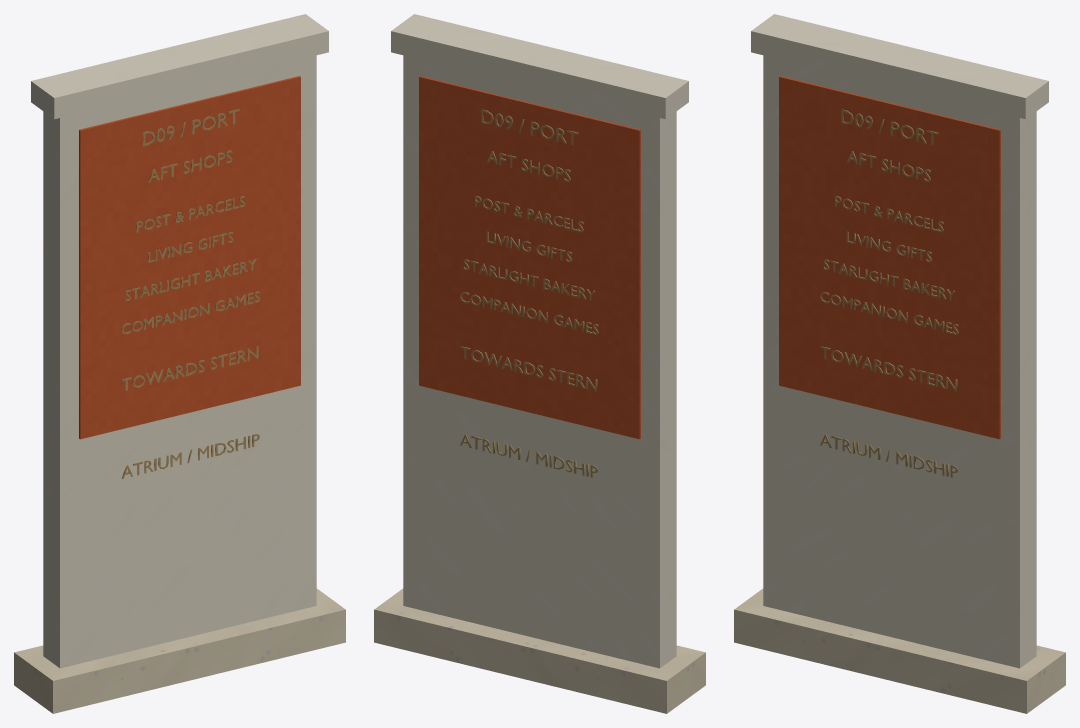
File: guide_port_aft_r003.glb
The picture shows the model from 3 angles, left to right: view 1: azimuth 30°, elevation 25°; view 2: azimuth 150°, elevation 25°; view 3: azimuth 330°, elevation 25°; orthographic projection.
Parts seen in each view (by area): view 1: profiled_column, recessed_orange_directory, weighted_plinth, crown, atrium, orientation, venue_3, venue_2, venue_0, heading, district, venue_1; view 2: profiled_column, recessed_orange_directory_back, weighted_plinth, crown, orientation_back, atrium_back, venue_3_back, venue_2_back, heading_back, venue_0_back, venue_1_back, district_back; view 3: profiled_column, recessed_orange_directory, weighted_plinth, crown, orientation, atrium, venue_3, venue_2, heading, venue_0, venue_1, district.
Part boxes in pixels (x1,y1,x2,y2): profiled_column: (43, 55, 316, 668); recessed_orange_directory: (79, 76, 300, 439); weighted_plinth: (14, 588, 345, 713); crown: (31, 14, 328, 119); atrium: (121, 434, 259, 478); orientation: (121, 346, 258, 390); venue_3: (121, 291, 260, 334); venue_2: (125, 258, 256, 300); venue_0: (136, 196, 245, 232); heading: (143, 109, 239, 146); district: (148, 150, 232, 182); venue_1: (148, 232, 233, 262); profiled_column: (403, 55, 676, 668); recessed_orange_directory_back: (419, 76, 640, 439); weighted_plinth: (374, 588, 705, 713); crown: (391, 14, 688, 119); orientation_back: (460, 346, 597, 391); atrium_back: (460, 434, 598, 477); venue_3_back: (460, 292, 598, 334); venue_2_back: (463, 259, 594, 300); heading_back: (481, 109, 578, 145); venue_0_back: (475, 195, 583, 232); venue_1_back: (486, 231, 571, 262); district_back: (487, 151, 570, 181); profiled_column: (763, 55, 1036, 668); recessed_orange_directory: (779, 76, 1000, 439); weighted_plinth: (734, 588, 1065, 713); crown: (751, 14, 1048, 119); orientation: (820, 346, 957, 391); atrium: (820, 434, 958, 477); venue_3: (820, 292, 958, 334); venue_2: (823, 259, 954, 300); heading: (841, 109, 938, 145); venue_0: (835, 195, 943, 232); venue_1: (846, 231, 931, 262); district: (847, 151, 930, 181).
Size of the model in its own units: 1.3 by 2.58 by 0.3.
Materials: 4 (4 with a texture image).
